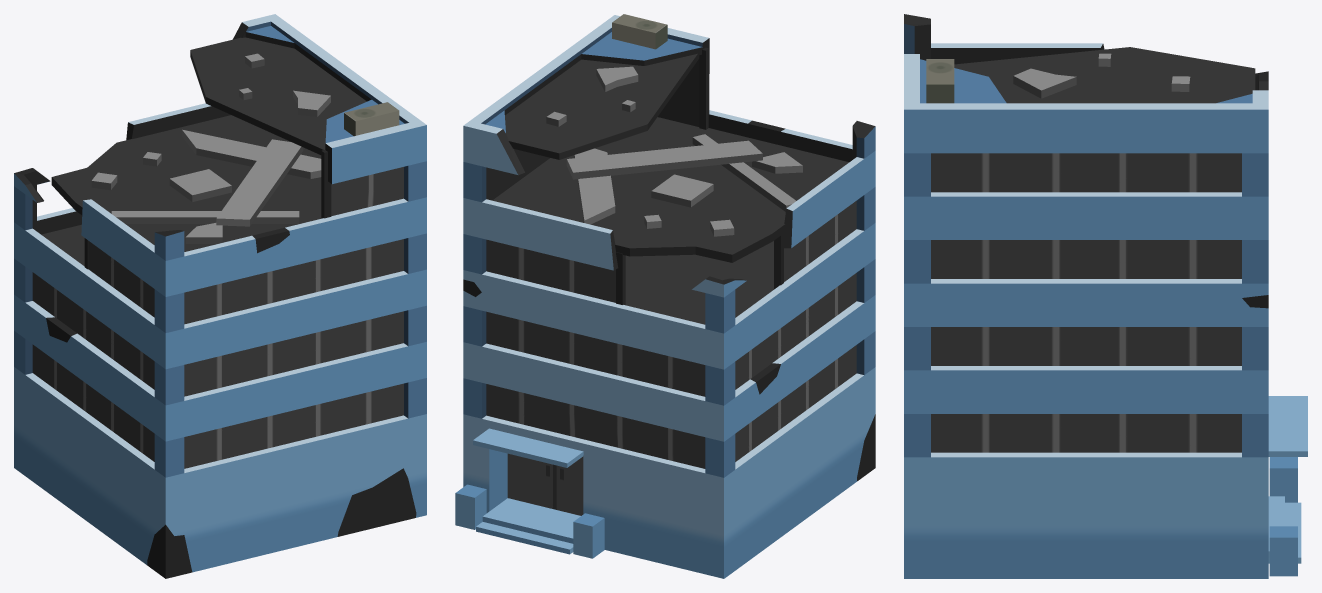
File: SM_Bld_Office_Damaged_02.gltf
The picture shows the model from 3 angles, left to right: view 1: azimuth 30°, elevation 25°; view 2: azimuth 150°, elevation 25°; view 3: azimuth 270°, elevation 25°; orthographic projection. The views are drawn at different scales.
Visible parts, largest first — view 1: SM_Bld_Office_Damaged_02; view 2: SM_Bld_Office_Damaged_02; view 3: SM_Bld_Office_Damaged_02.
Boxes of the visible parts, <box> form: SM_Bld_Office_Damaged_02: <box>14,14,426,578</box>; SM_Bld_Office_Damaged_02: <box>455,14,875,578</box>; SM_Bld_Office_Damaged_02: <box>904,14,1307,578</box>.
Bounding box in the file's own units: 13.62 × 20.04 × 15.17.
1 material, 1 textured.
